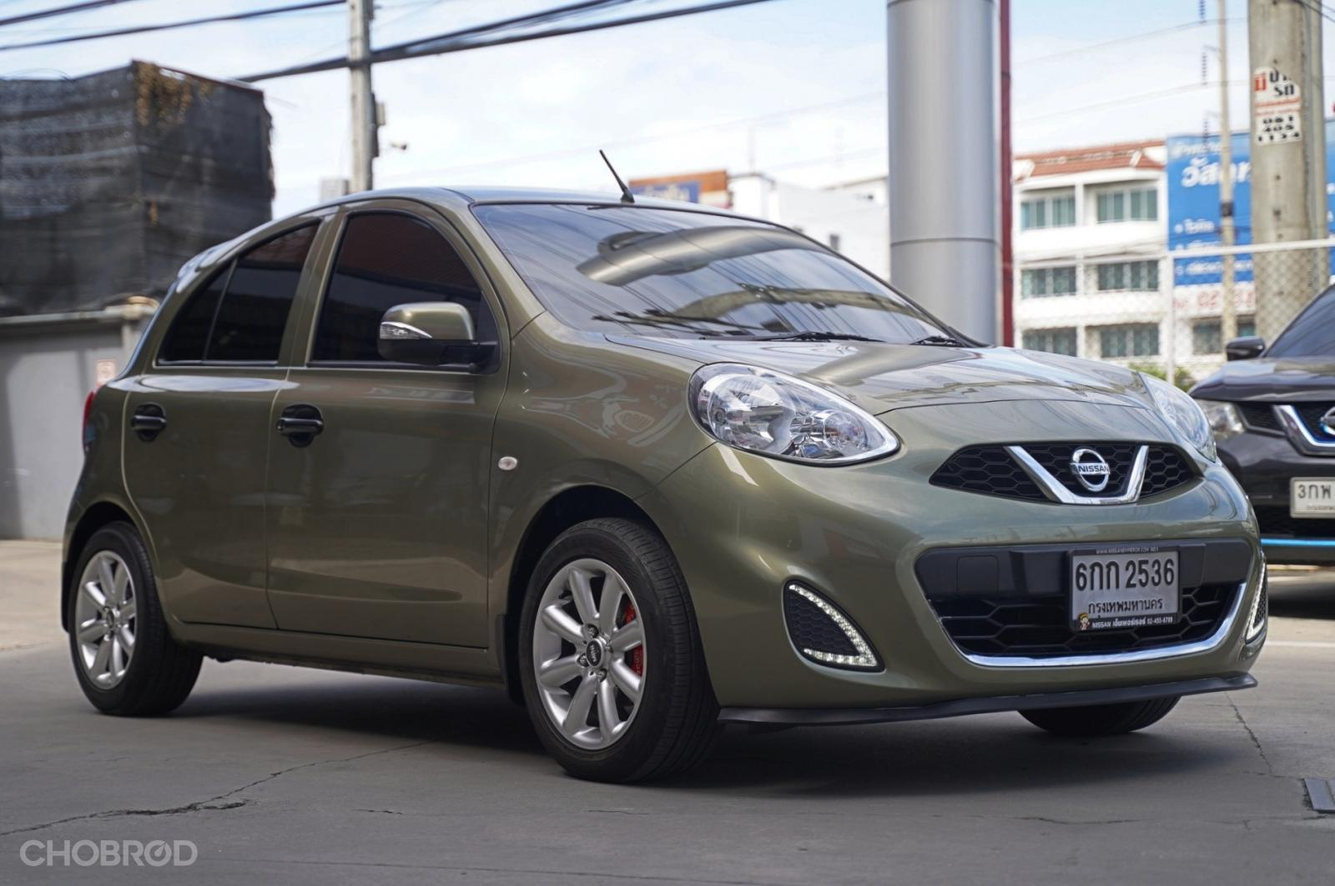license-plate: (1053, 539, 1191, 643)
